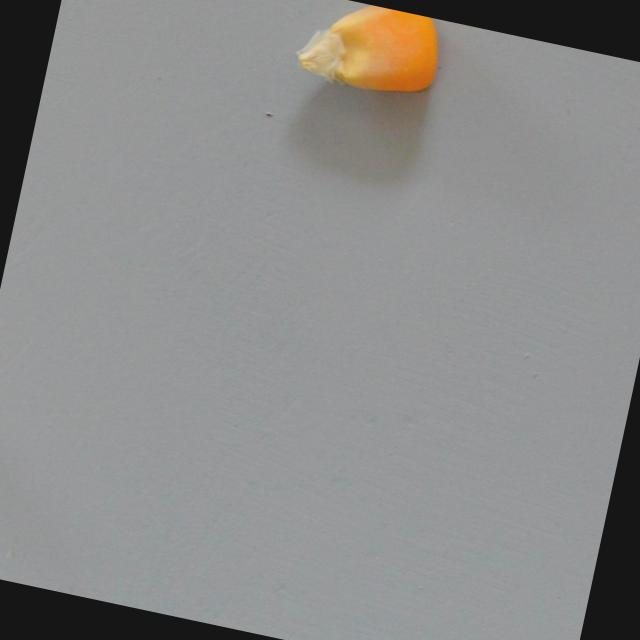entero: (279, 0, 452, 117)
